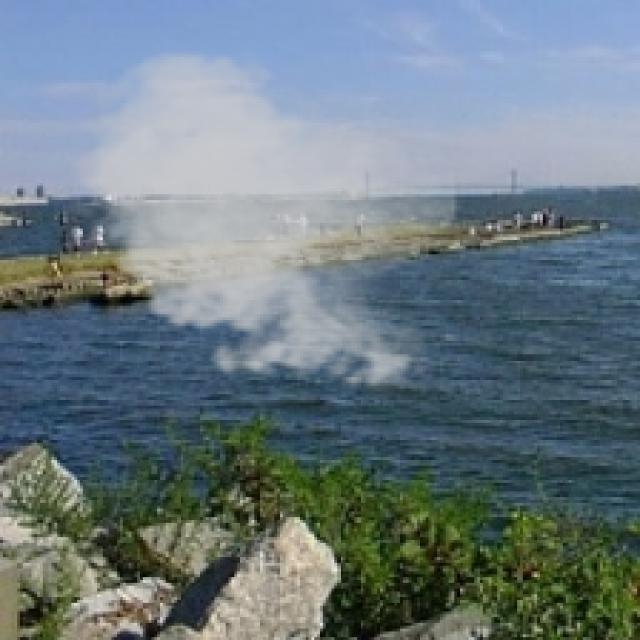Smoke: (60, 43, 460, 400)
